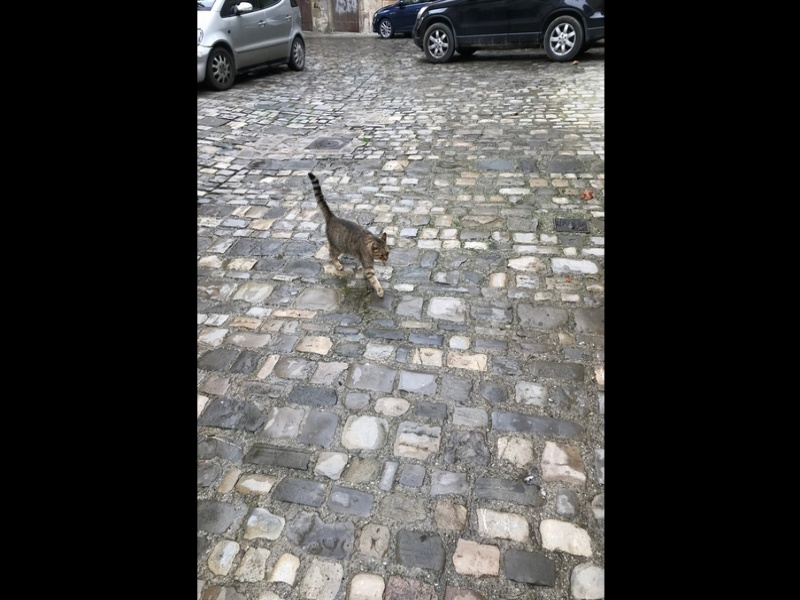cat: (307, 171, 392, 298)
